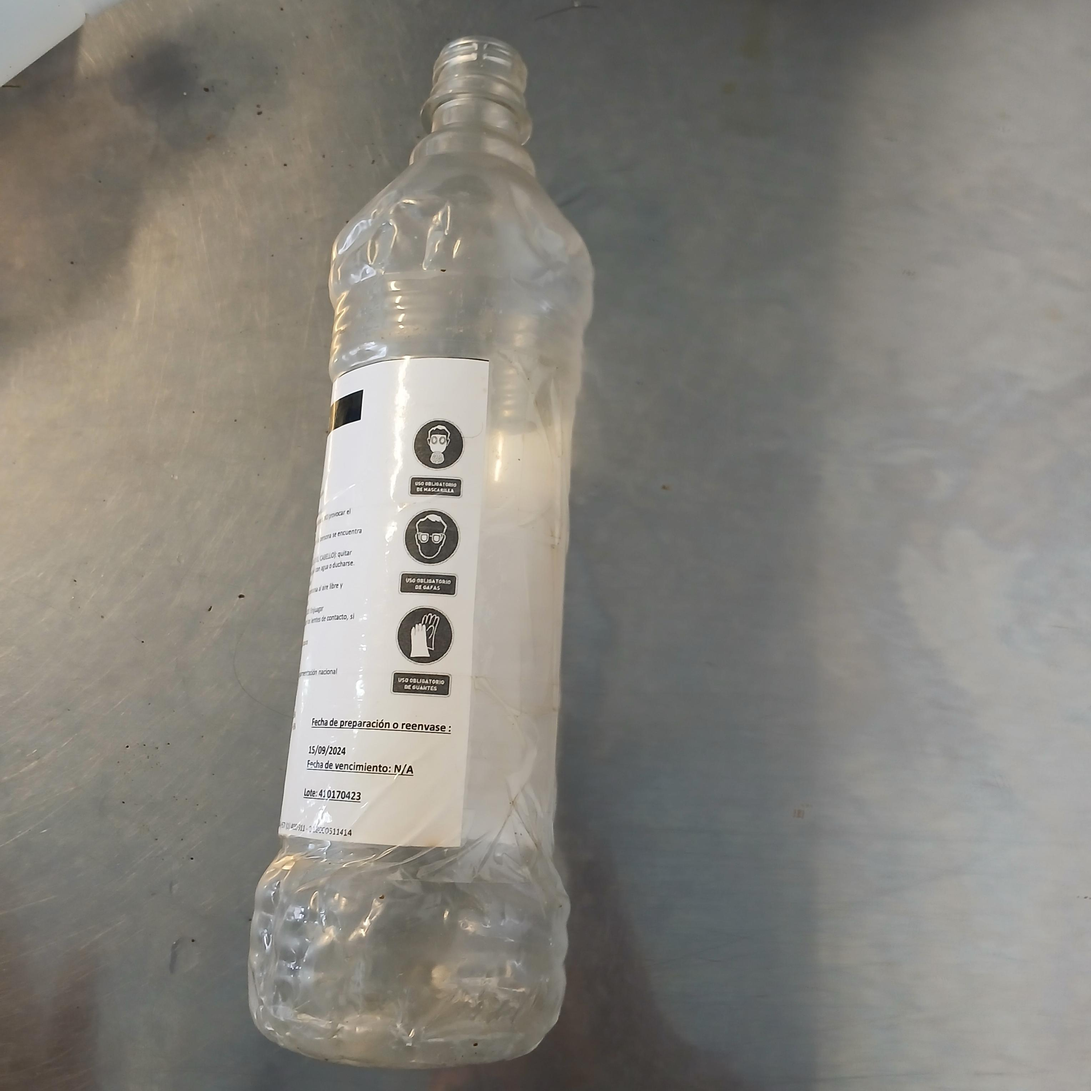Plastico: (247, 38, 593, 1070)
